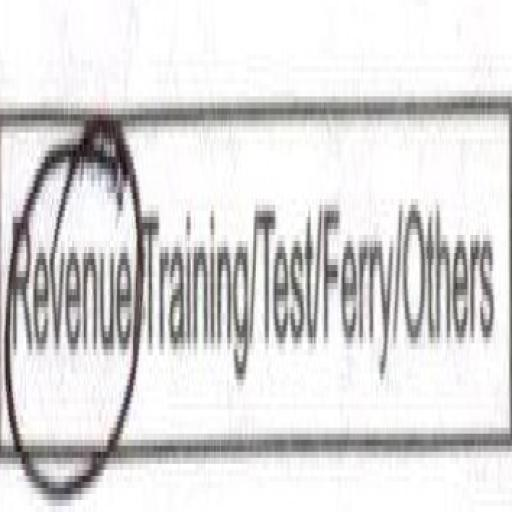check: (0, 103, 140, 508)
